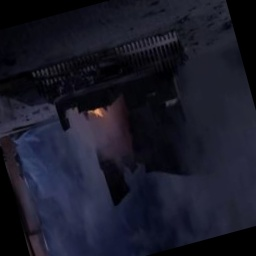fire: (77, 91, 121, 130)
smoke: (23, 89, 256, 256)
